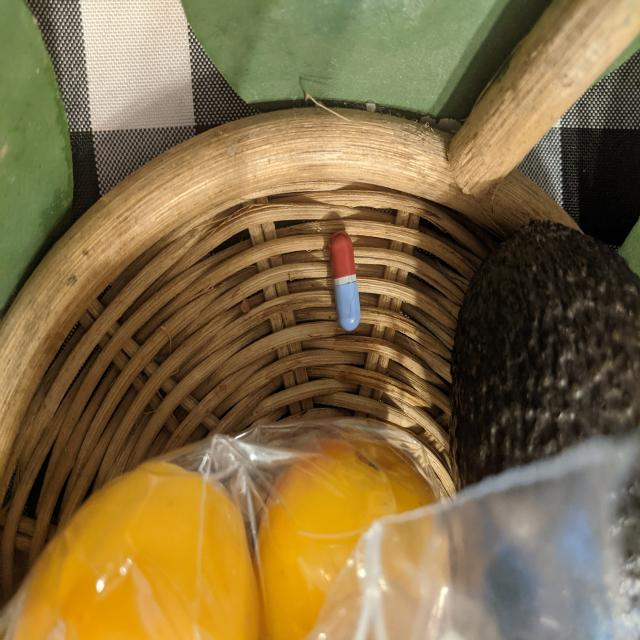non-organic waste: (328, 230, 361, 332)
